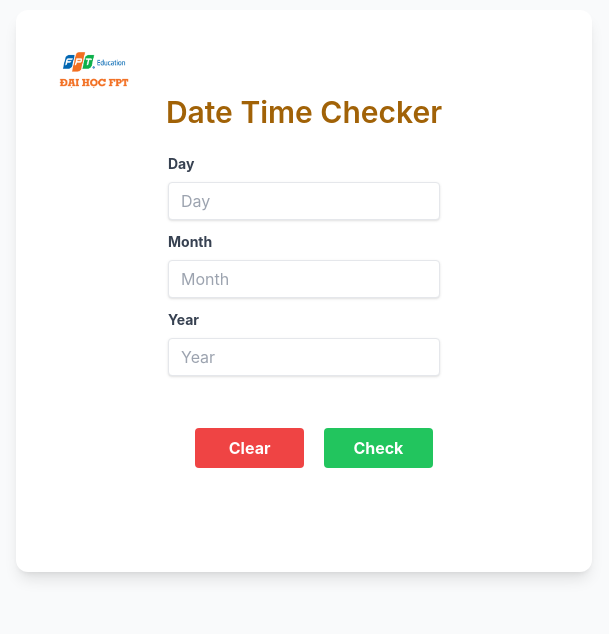
Check function: › should show error when the input field is empty
The image size is (609, 634).
Step 1. Click the button "Check" → x=379, y=448, box x1=324 y1=428 x2=433 y2=468
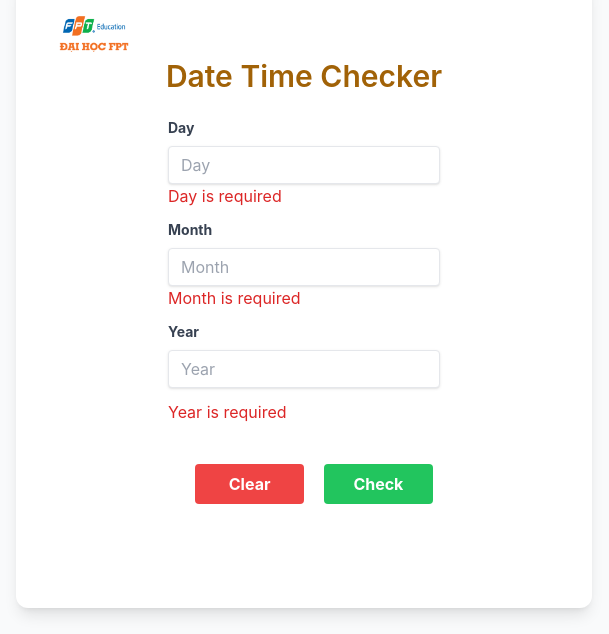
Expected: the text with class "error-message" reads "Day is required", x1=168 y1=186 x2=282 y2=206
Expected: the text with class "error-message" reads "Month is required", x1=168 y1=288 x2=301 y2=308
Expected: the text with class "error-message" reads "Year is required", x1=168 y1=402 x2=287 y2=422
